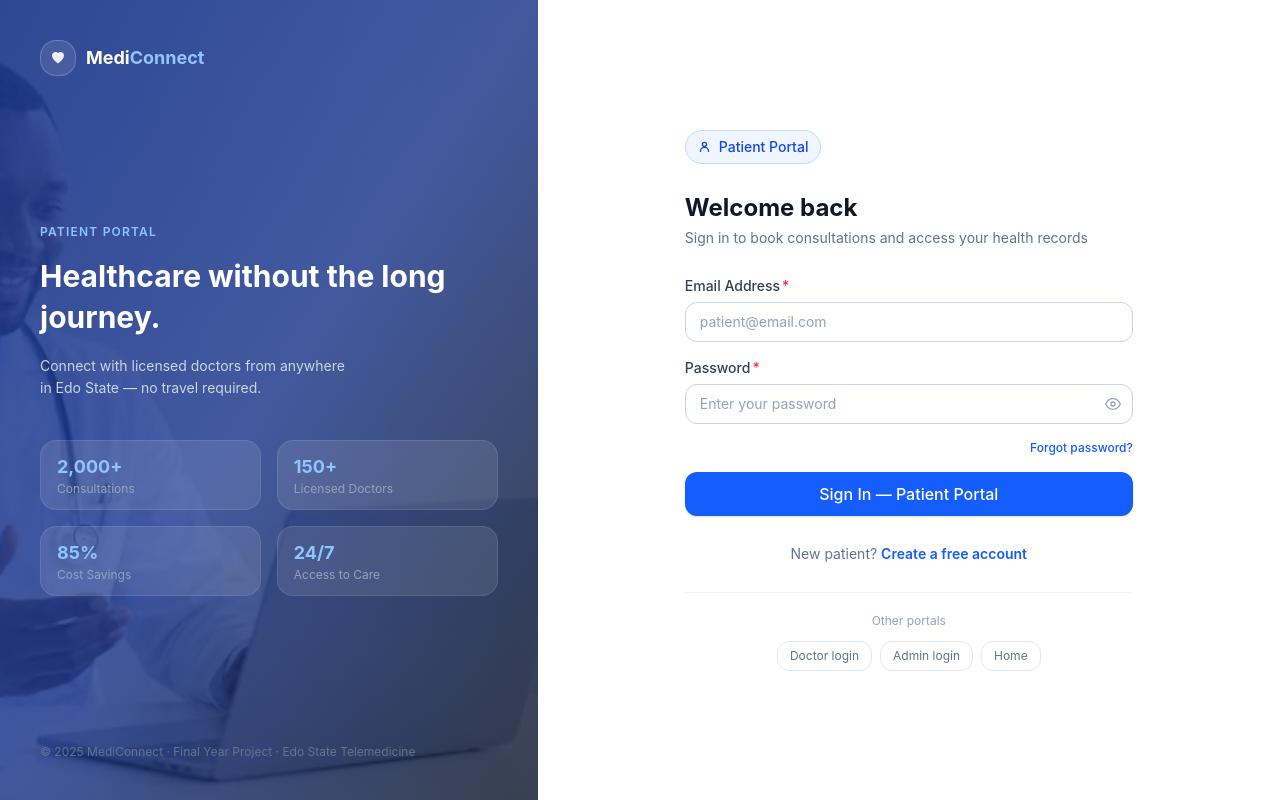
Test: Login page — patient role › shows validation error when password is empty
In the field with placeholder "patient@email.com": (909, 322) [685,302,1133,342], type "test@email.com"
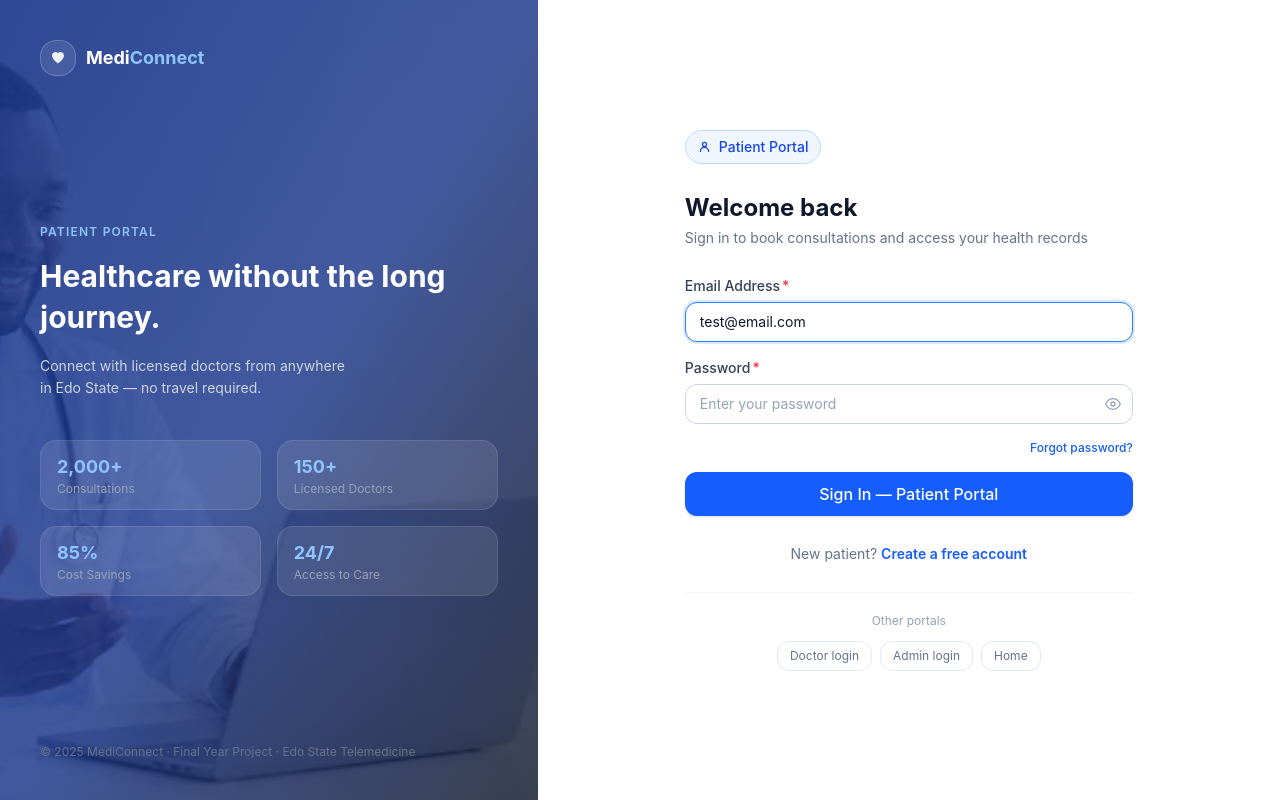
Click the button "Sign In — Patient Portal": (909, 494) [685,472,1133,516]
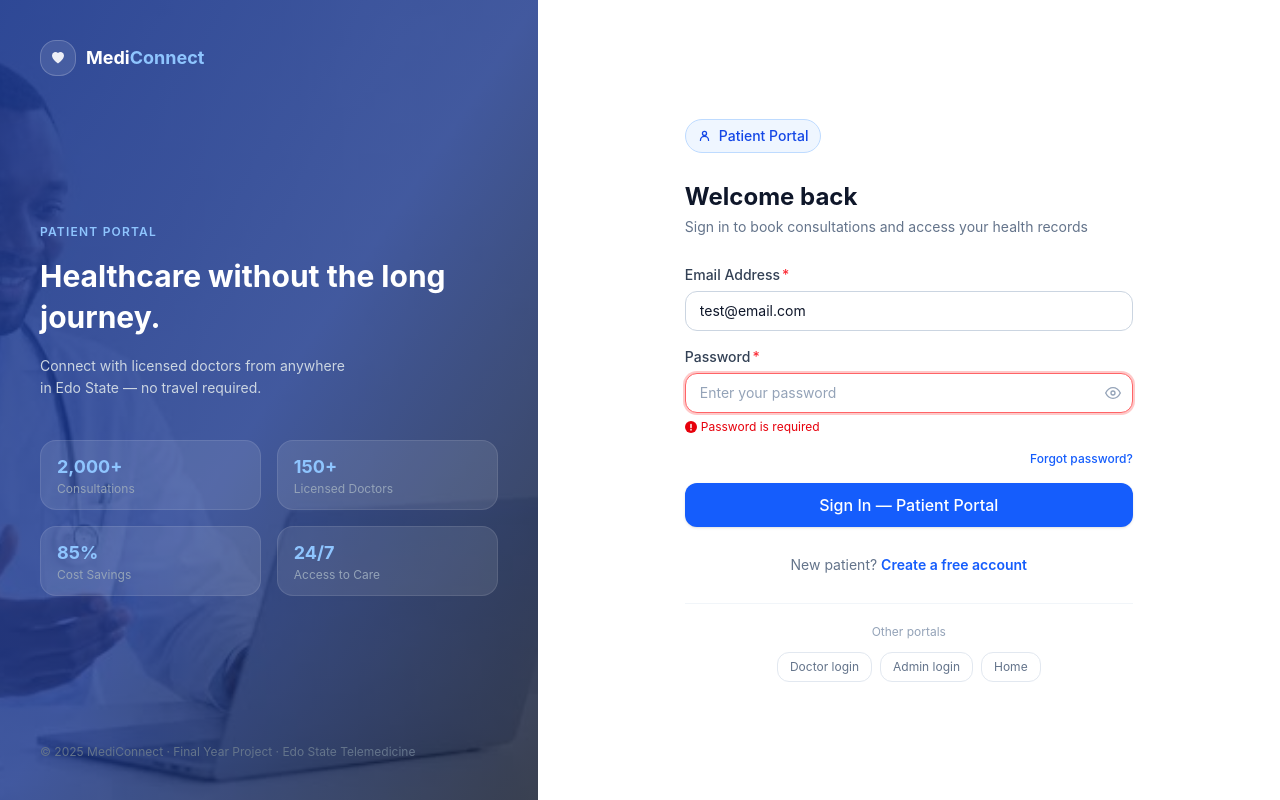
Expected: the text "Password is required" is shown, [685,418,820,434]
